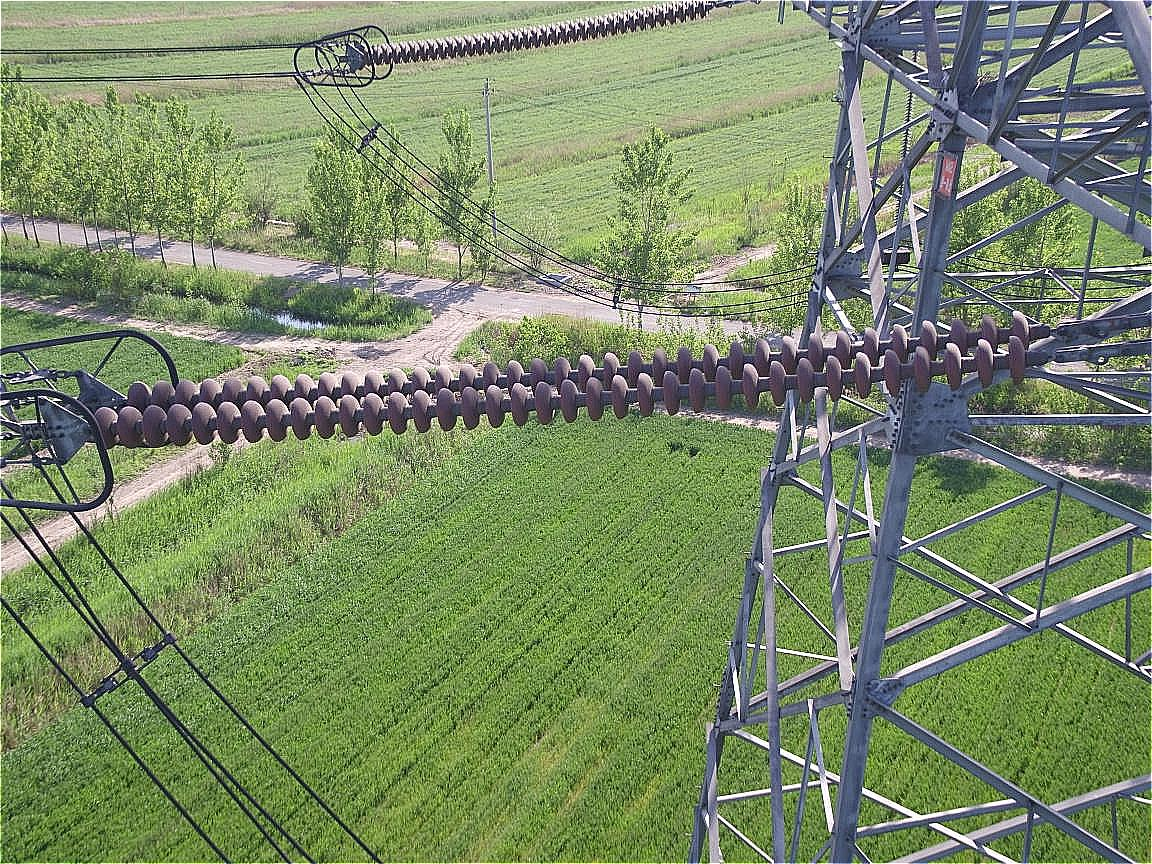insultor1: (76, 312, 1045, 461), (347, 1, 728, 75)
